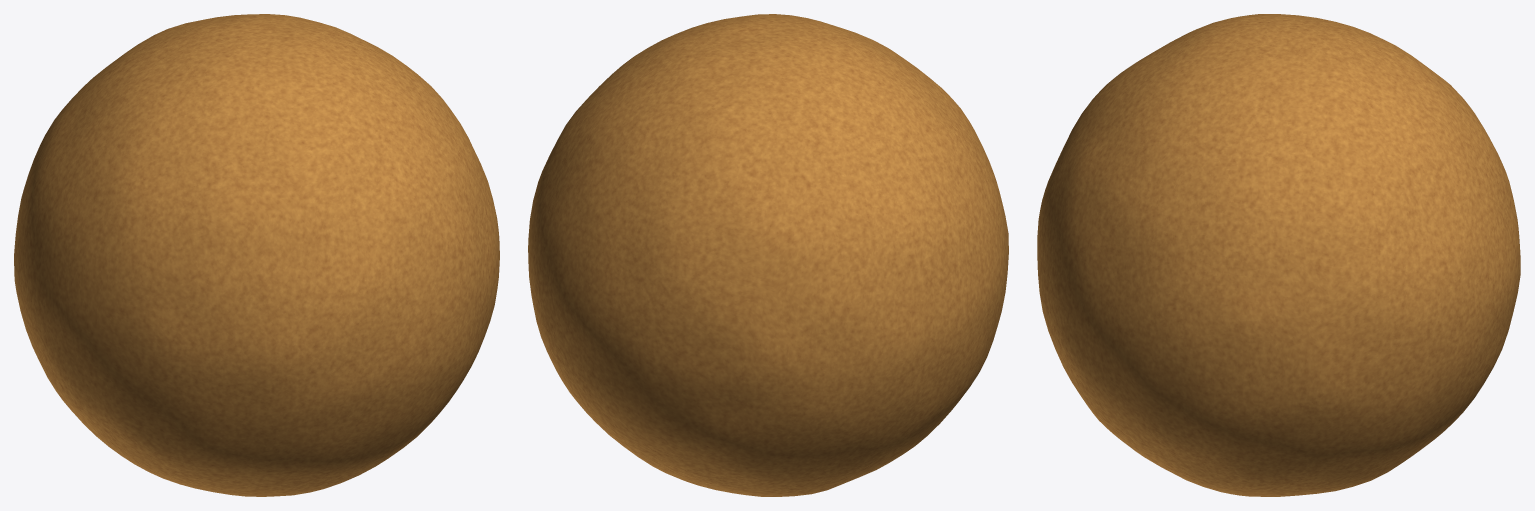
The model's file is ball.glb.
3 views of the same model, side by side, from view 1: azimuth 30°, elevation 25°; view 2: azimuth 150°, elevation 25°; view 3: azimuth 270°, elevation 25° (orthographic).
Parts seen in each view (by area): view 1: Fine_Sand_Ball; view 2: Fine_Sand_Ball; view 3: Fine_Sand_Ball.
Part boxes in pixels (box(x1,y1,x2,y2)): Fine_Sand_Ball: box(14, 14, 499, 496); Fine_Sand_Ball: box(528, 14, 1008, 496); Fine_Sand_Ball: box(1037, 14, 1520, 496).
Size of the model in its own units: 3.99 by 3.98 by 4.
1 material, 1 textured.
